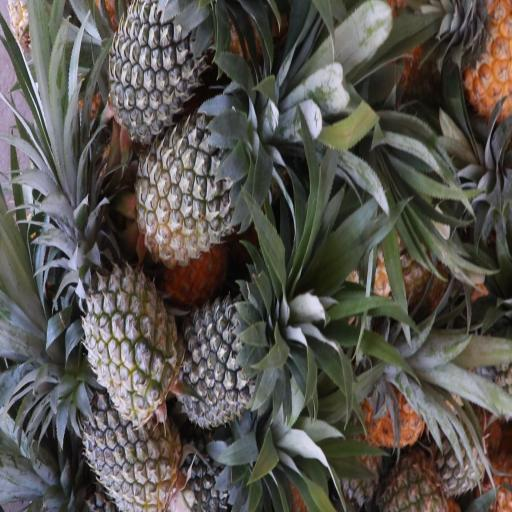------------------------------: (141, 118, 255, 258), (87, 266, 175, 418)
Pineapple - v8 v1: (451, 0, 512, 116)
